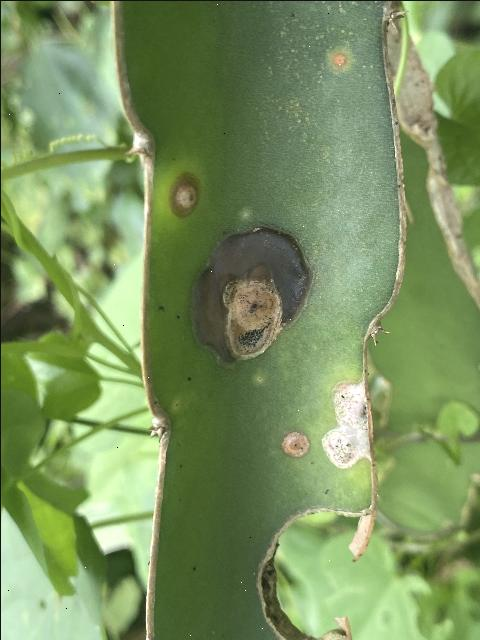stemcanker: (189, 216, 319, 367), (320, 379, 374, 474), (168, 171, 203, 218)
